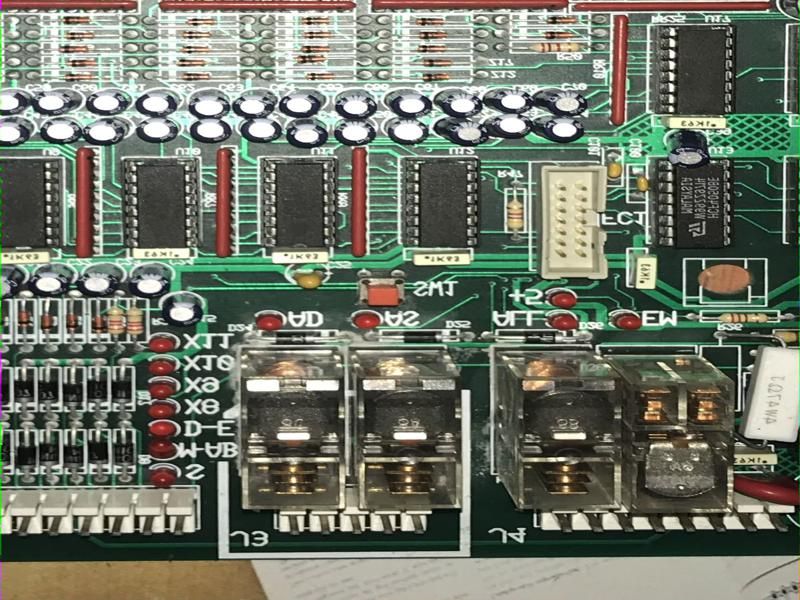Capacitor: (75, 261, 126, 300), (127, 262, 175, 301), (665, 128, 710, 169), (433, 115, 488, 147), (531, 87, 588, 117), (29, 262, 76, 298), (383, 88, 435, 119), (161, 292, 205, 328), (530, 117, 585, 144), (481, 86, 534, 114), (83, 117, 132, 147), (280, 89, 327, 120), (185, 88, 232, 119), (432, 89, 484, 117), (284, 118, 329, 150), (85, 88, 133, 118), (232, 89, 278, 120), (483, 114, 533, 142), (333, 90, 378, 121), (332, 119, 381, 147), (34, 87, 81, 116), (236, 118, 284, 145), (135, 89, 181, 117), (384, 118, 428, 146), (39, 117, 82, 145), (135, 118, 181, 144), (188, 119, 233, 144), (1, 117, 35, 149), (1, 263, 27, 301), (1, 89, 33, 117)
Diode: (259, 331, 326, 344), (114, 434, 135, 473), (511, 330, 563, 345), (87, 372, 108, 409), (111, 375, 133, 409), (62, 375, 83, 410), (393, 331, 449, 344), (89, 434, 108, 471), (18, 436, 36, 475), (65, 437, 83, 475), (40, 374, 59, 409), (40, 438, 59, 473), (16, 371, 34, 407), (38, 305, 58, 334), (180, 15, 221, 29), (416, 68, 457, 82), (63, 305, 82, 334), (16, 302, 33, 334), (91, 307, 109, 335), (539, 15, 584, 26), (535, 29, 579, 40), (295, 15, 335, 27), (62, 56, 100, 68), (295, 29, 336, 40), (178, 43, 215, 55), (62, 69, 96, 82), (298, 70, 341, 80), (59, 14, 94, 26), (294, 43, 332, 54), (411, 30, 452, 40), (411, 16, 451, 26), (60, 30, 99, 40), (417, 58, 456, 68), (177, 72, 212, 83), (294, 55, 331, 65), (412, 45, 451, 54), (59, 44, 93, 54), (178, 30, 212, 40), (177, 57, 208, 67)
LED: (147, 377, 178, 401), (611, 310, 643, 332), (255, 310, 285, 333), (151, 465, 179, 489), (547, 311, 577, 333), (147, 355, 177, 376), (148, 439, 177, 460), (147, 401, 179, 420), (149, 333, 177, 353), (549, 289, 576, 309), (149, 421, 178, 439), (351, 311, 379, 329)
Resistor: (702, 310, 779, 324), (505, 191, 525, 233), (107, 304, 129, 339), (520, 42, 587, 53), (125, 305, 146, 337)
